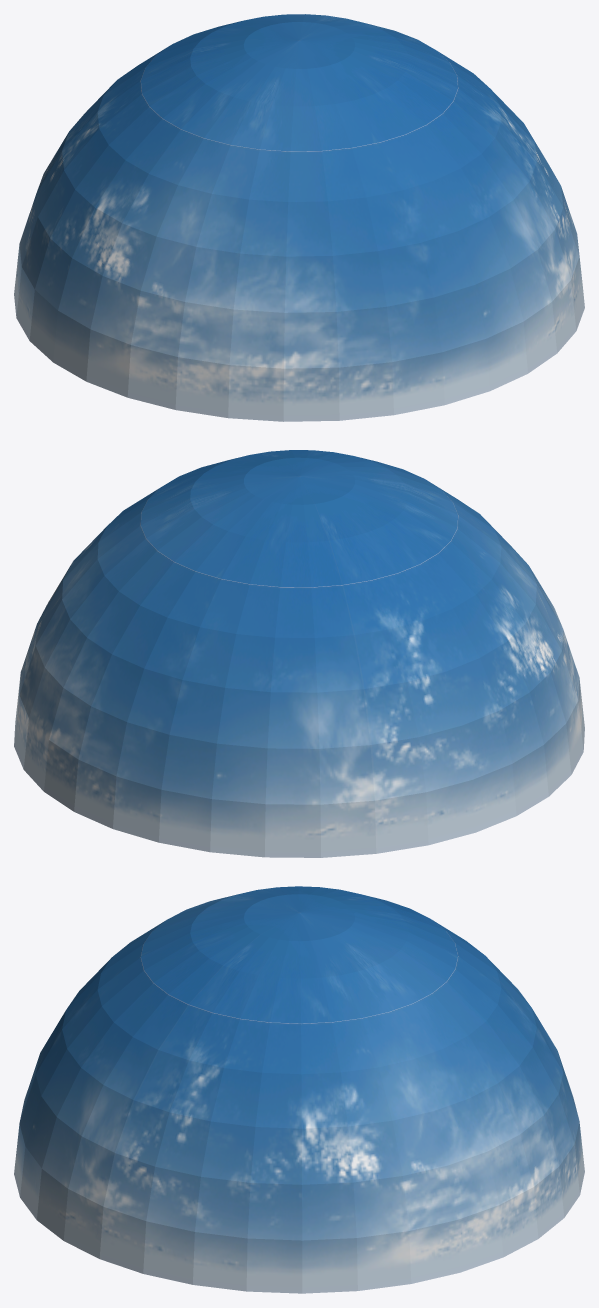
Rendered from shanghai_sky.glb.
3 renders of one model, top to bottom at view 1: azimuth 30°, elevation 25°; view 2: azimuth 150°, elevation 25°; view 3: azimuth 270°, elevation 25°, orthographic.
Size of the model in its own units: 2200 by 1107 by 2200.
Materials: 2 (2 with a texture image).
